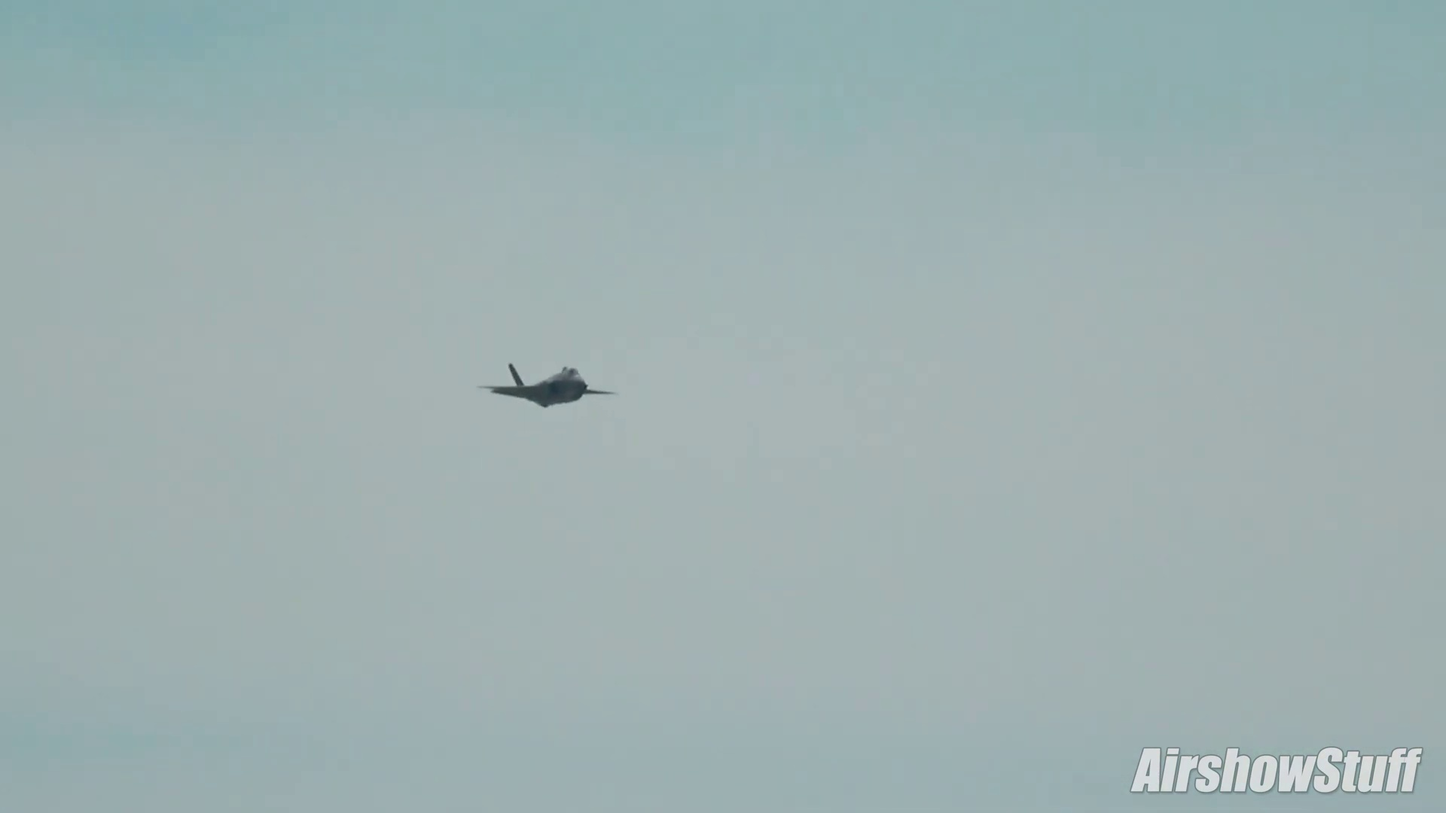F35: (474, 359, 622, 419)
